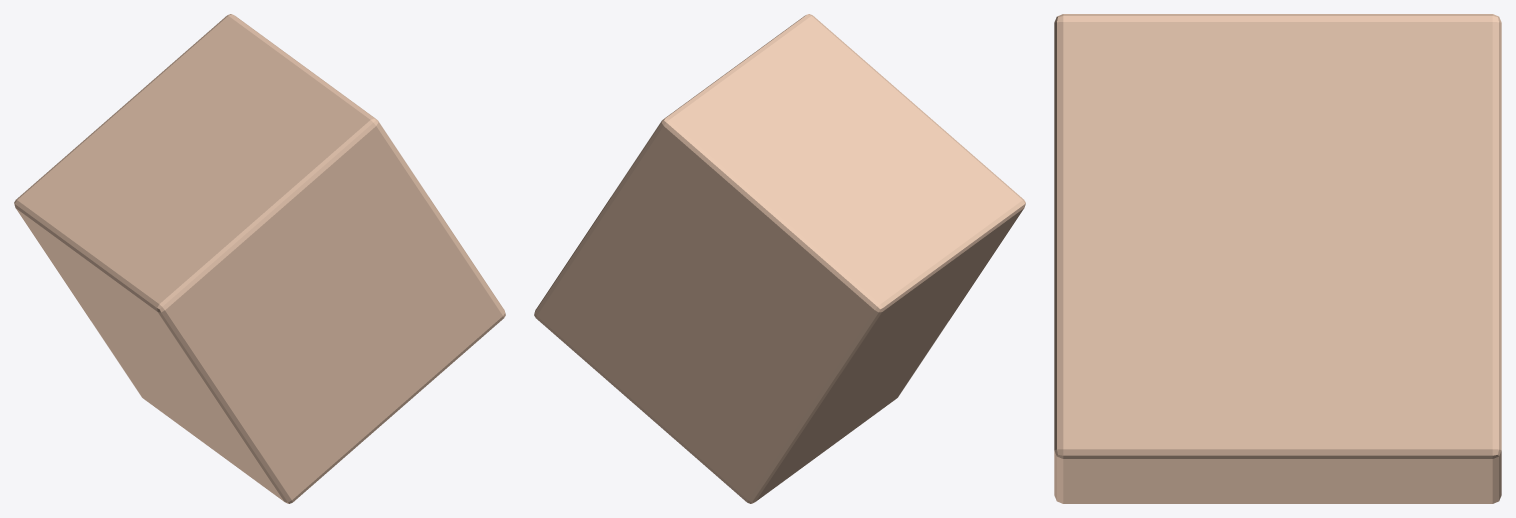
File: cube_marble_orange.glb
3 views of the same model, side by side, from view 1: azimuth 30°, elevation 25°; view 2: azimuth 150°, elevation 25°; view 3: azimuth 270°, elevation 25° (orthographic). The views are drawn at different scales.
Parts seen in each view (by area): view 1: cube_marble_orange; view 2: cube_marble_orange; view 3: cube_marble_orange.
Part boxes in pixels (left/top/right/bottom): cube_marble_orange: left=14, top=14, right=505, bottom=503; cube_marble_orange: left=534, top=14, right=1025, bottom=503; cube_marble_orange: left=1054, top=14, right=1501, bottom=503.
Bounding box in the file's own units: 0.5424 × 0.5424 × 0.4.
